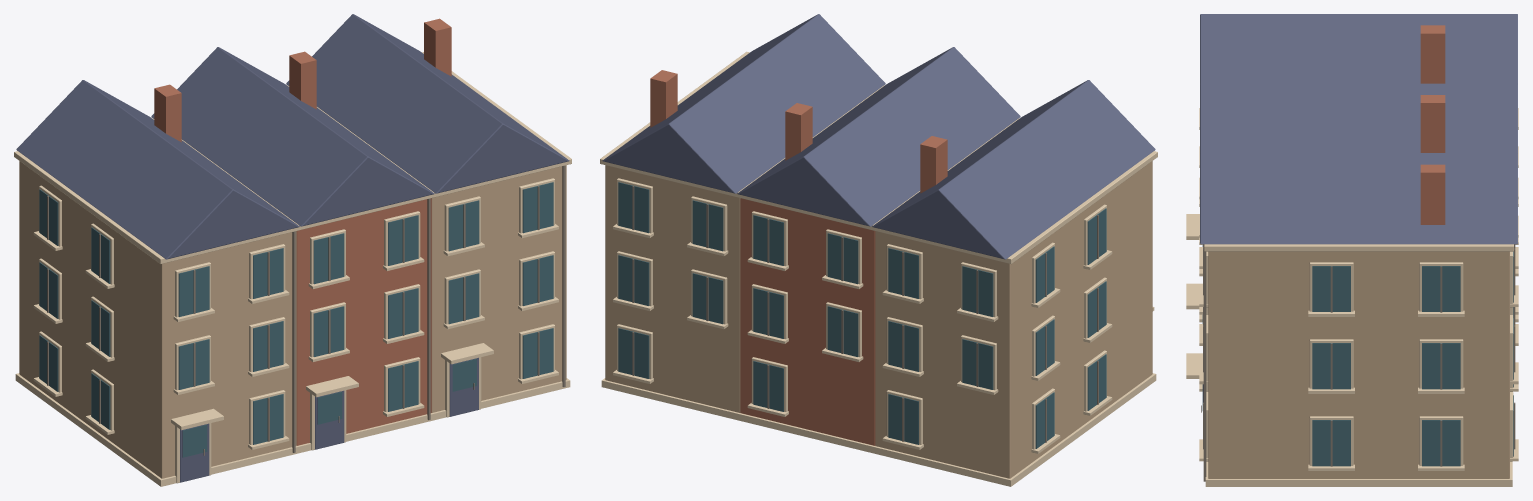
File: attached-townhouse.glb
3 views of the same model, side by side, from view 1: azimuth 30°, elevation 25°; view 2: azimuth 150°, elevation 25°; view 3: azimuth 270°, elevation 25° (orthographic). The views are drawn at different scales.
Parts seen in each view (by area): view 1: attached-townhouse; view 2: attached-townhouse; view 3: attached-townhouse.
Part boxes in pixels (x1=…): attached-townhouse: x1=14, y1=14, x2=571, y2=486; attached-townhouse: x1=600, y1=14, x2=1157, y2=486; attached-townhouse: x1=1186, y1=14, x2=1518, y2=486.
Bounding box in the file's own units: 18.62 × 12.3 × 12.12.
